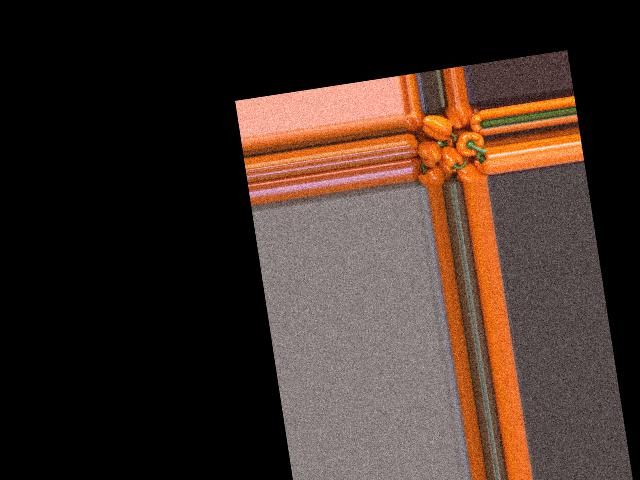bell_pepper: (408, 150, 429, 182)
